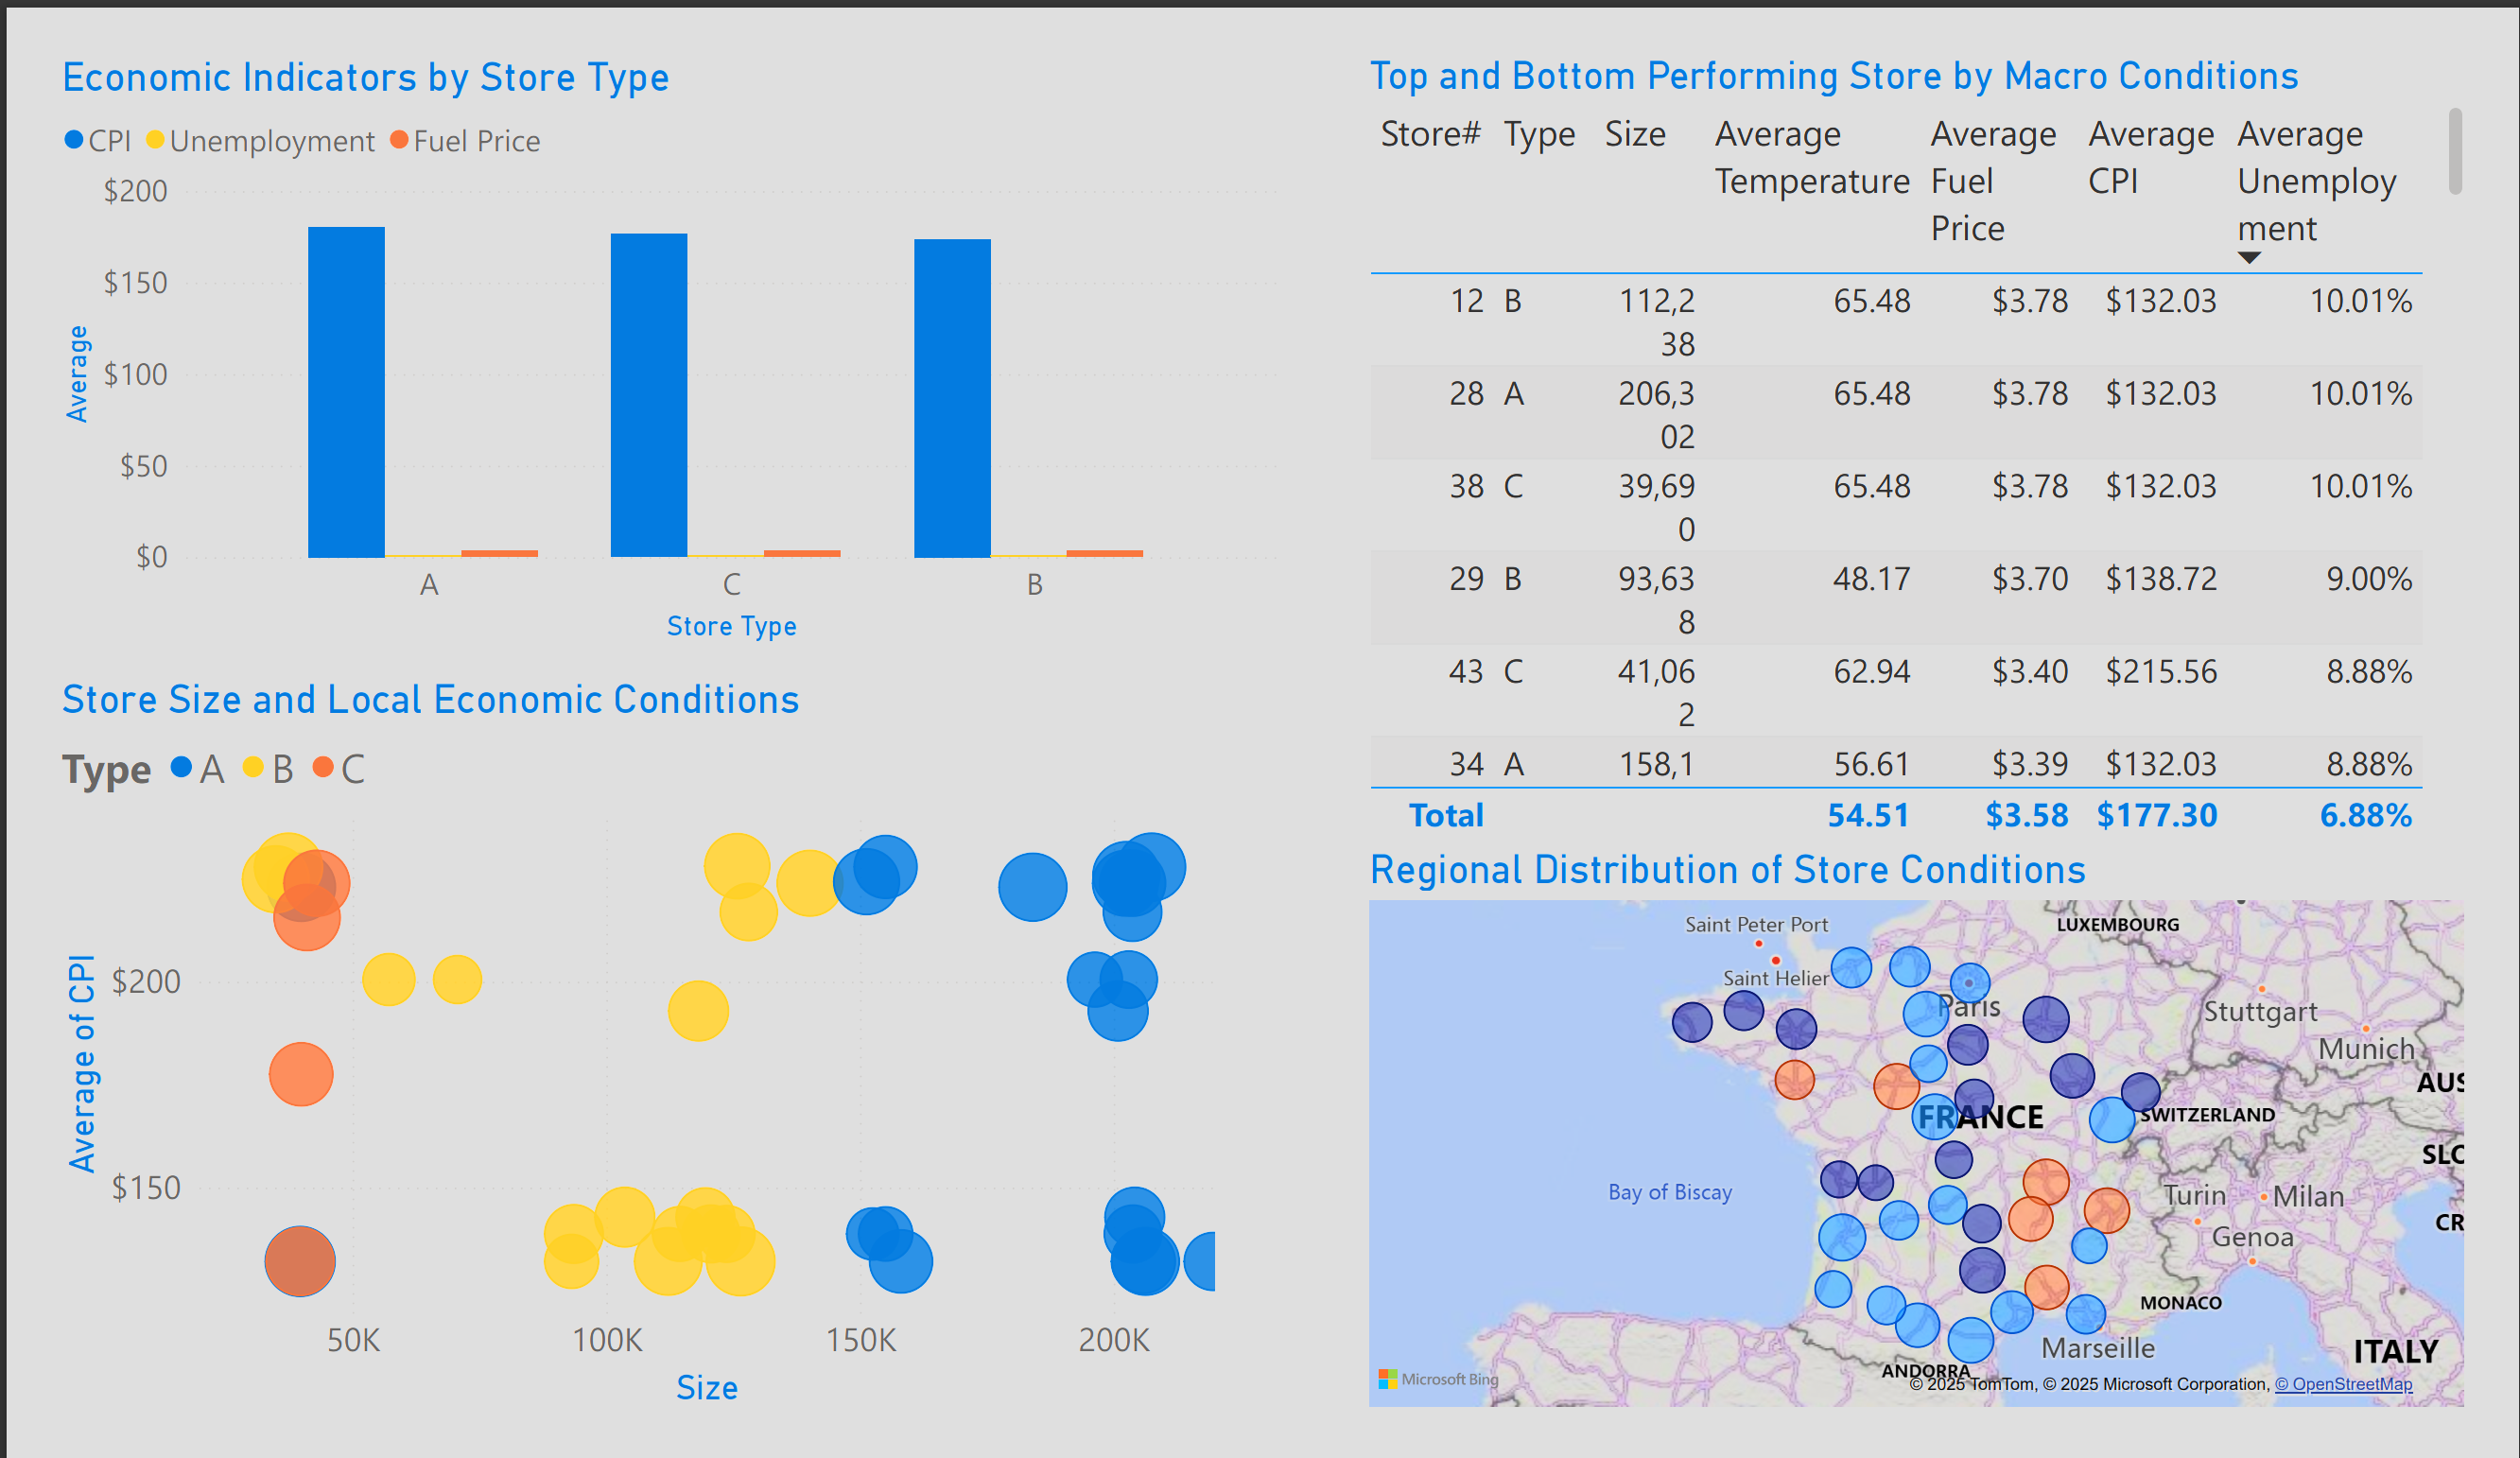

Layout of this report page (visuals, bound fields, positions):
{"tool":"powerbi","page":{"name":"Regional","canvas":[1280,720],"ordinal":1},"visuals":[{"type":"clusteredColumnChart","title":"Economic Indicators by Store Type","fields":{"Category":["Features.Stores.Type"],"Y":["Avg(Features.CPI)","Avg(Features.Unemployment)","Avg(Features.Fuel_Price)"]},"box":[0,0,653,316.4],"z":0},{"type":"scatterChart","title":"Store Size and Local Economic Conditions","fields":{"Y":["Avg(Features.CPI)"],"X":["Features.Stores.Size"],"Size":["Avg(Features.Temperature)"],"Series":["Features.Stores.Type"]},"box":[0,329.5,640,391.1],"z":1000},{"type":"tableEx","title":"Top and Bottom Performing Store by Macro Conditions","fields":{"Values":["Features.Store","Features.Stores.Type","Features.Stores.Size","Avg(Features.Temperature)","Avg(Features.Fuel_Price)","Avg(Features.CPI)","Avg(Features.Unemployment)"]},"box":[691.5,0,588.5,418.8],"z":2000},{"type":"map","title":"Regional Distribution of Store Conditions","fields":{"Size":["Avg(Features.Temperature)"],"Category":["Features.Store"]},"box":[691.5,418.8,588.5,301.9],"z":3000}]}

Visuals, with their boxes in screenshot pixels (x1, y1, x2, y2), scaled from the page's 1280x720 canvas onto the 2520x1458 screenshot:
"Economic Indicators by Store Type" clusteredColumnChart: 0/0/1286/641
"Store Size and Local Economic Conditions" scatterChart: 0/668/1260/1457
"Top and Bottom Performing Store by Macro Conditions" tableEx: 1362/0/2519/848
"Regional Distribution of Store Conditions" map: 1362/848/2519/1457
